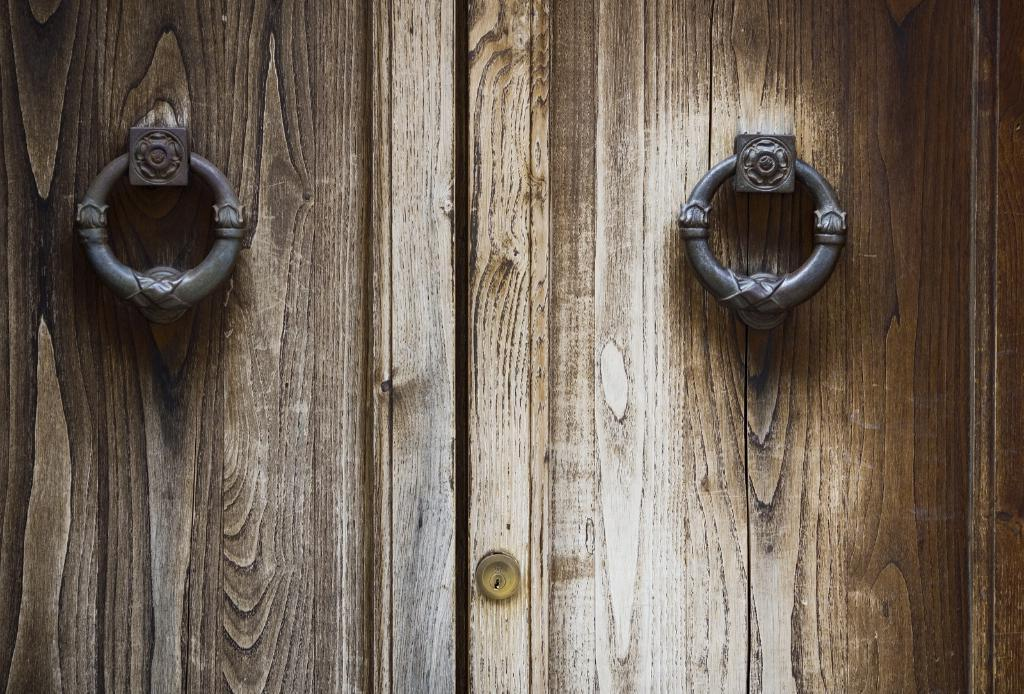door: (468, 20, 982, 694), (6, 15, 460, 694)
handle: (54, 140, 258, 318), (674, 152, 876, 330)
